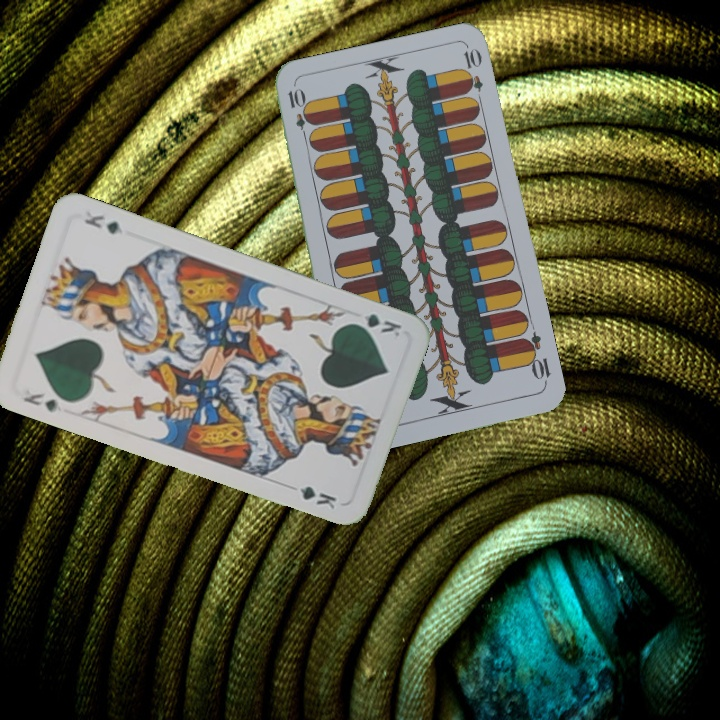E10: (518, 329, 553, 387), (283, 84, 312, 143)
GK: (346, 309, 404, 340), (18, 389, 66, 415)
